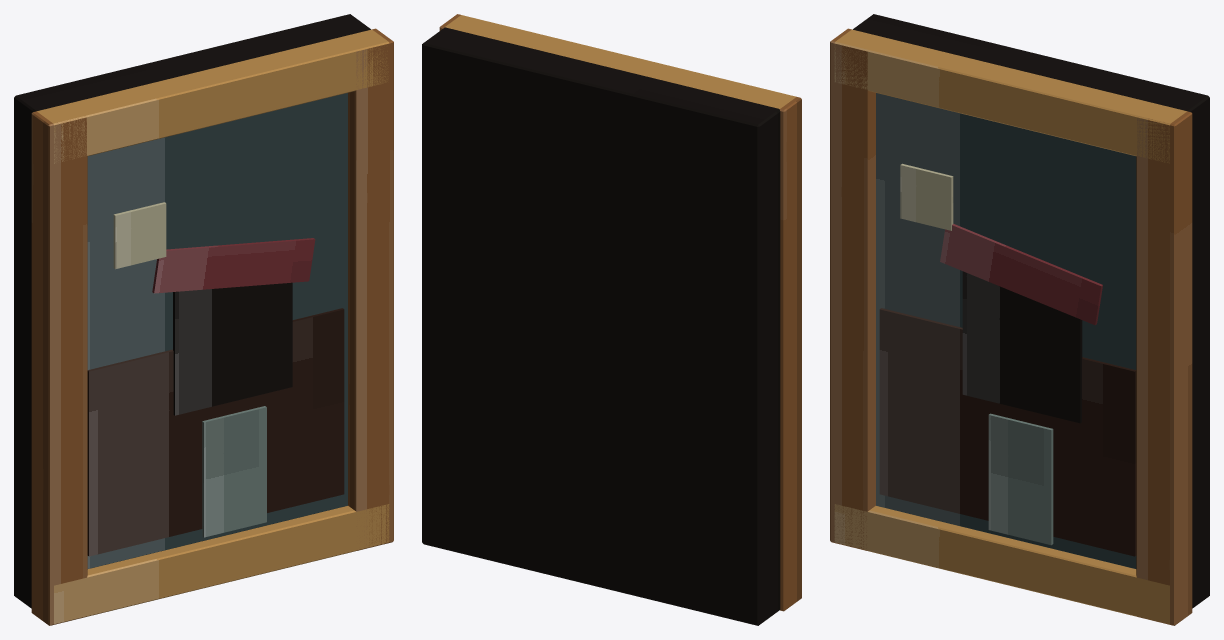
Rendered from framed_wall_portrait.glb.
The picture shows the model from 3 angles, left to right: view 1: azimuth 30°, elevation 25°; view 2: azimuth 150°, elevation 25°; view 3: azimuth 330°, elevation 25°; orthographic projection.
Parts seen in each view (by area): view 1: PortraitCanvas, PortraitGround, FrameL, FrameR, FrameTop, PortraitBack, FrameBottom, PortraitManor, PortraitPath, PortraitRoof, PortraitMoon; view 2: PortraitBack, FrameL, FrameTop; view 3: PortraitCanvas, PortraitGround, FrameR, FrameL, FrameTop, PortraitBack, FrameBottom, PortraitManor, PortraitPath, PortraitRoof, PortraitMoon.
Part boxes in pixels (x1,y1,x2,y2): PortraitCanvas: (87, 93, 347, 568); PortraitGround: (87, 308, 344, 556); FrameL: (31, 111, 87, 625); FrameR: (348, 28, 393, 550); FrameTop: (37, 29, 389, 163); PortraitBack: (14, 14, 370, 608); FrameBottom: (54, 504, 389, 624); PortraitManor: (173, 282, 292, 415); PortraitPath: (202, 406, 266, 537); PortraitRoof: (152, 238, 315, 293); PortraitMoon: (113, 202, 166, 269); PortraitBack: (422, 27, 780, 625); FrameL: (779, 97, 801, 611); FrameTop: (445, 15, 796, 108); PortraitCanvas: (876, 93, 1136, 568); PortraitGround: (879, 308, 1136, 556); FrameR: (1136, 111, 1192, 625); FrameL: (830, 28, 875, 550); FrameTop: (834, 29, 1186, 163); PortraitBack: (853, 14, 1209, 608); FrameBottom: (834, 504, 1169, 624); PortraitManor: (962, 271, 1082, 423); PortraitPath: (988, 413, 1053, 545); PortraitRoof: (940, 224, 1102, 325); PortraitMoon: (900, 163, 953, 230).
Bounding box in the file's own units: 0.88 × 1.22 × 0.175.
Materials: 1 (1 with a texture image).
